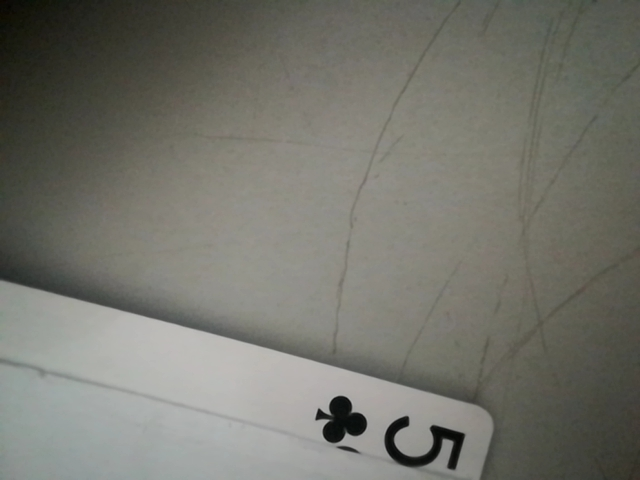mh 5: (309, 388, 477, 476)
